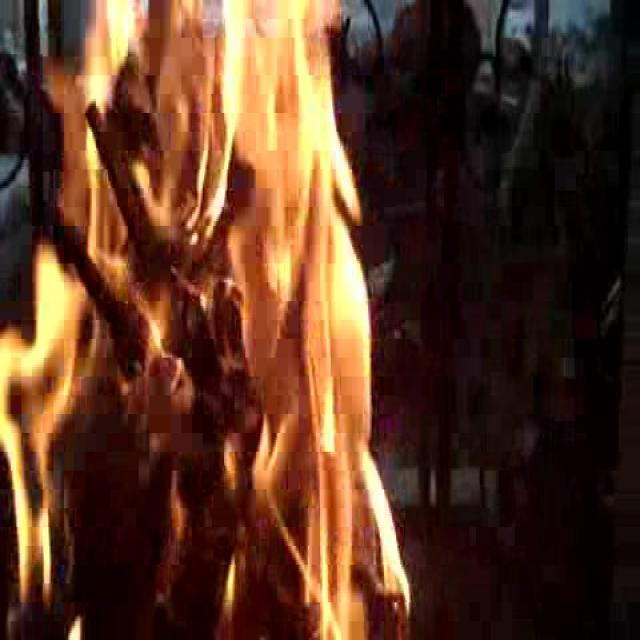fire: (39, 3, 393, 601)
